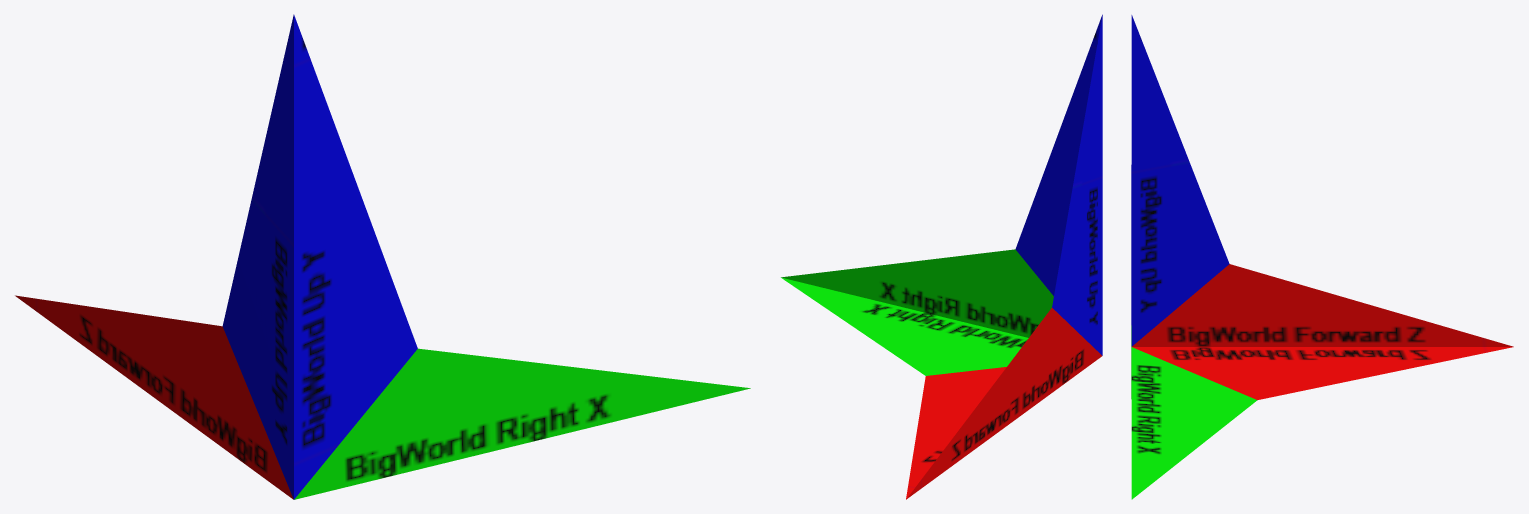
The model's file is hard_point.FBX.
3 views of the same model, side by side, from view 1: azimuth 30°, elevation 25°; view 2: azimuth 150°, elevation 25°; view 3: azimuth 270°, elevation 25° (orthographic). The views are drawn at different scales.
Parts seen in each view (by area): view 1: HP_00; view 2: HP_00; view 3: HP_00.
Part boxes in pixels (bbox=[...]): HP_00: bbox=[15, 14, 750, 499]; HP_00: bbox=[781, 14, 1102, 499]; HP_00: bbox=[1131, 15, 1513, 499].
Size of the model in its own units: 2.02 by 2.05 by 2.14.
